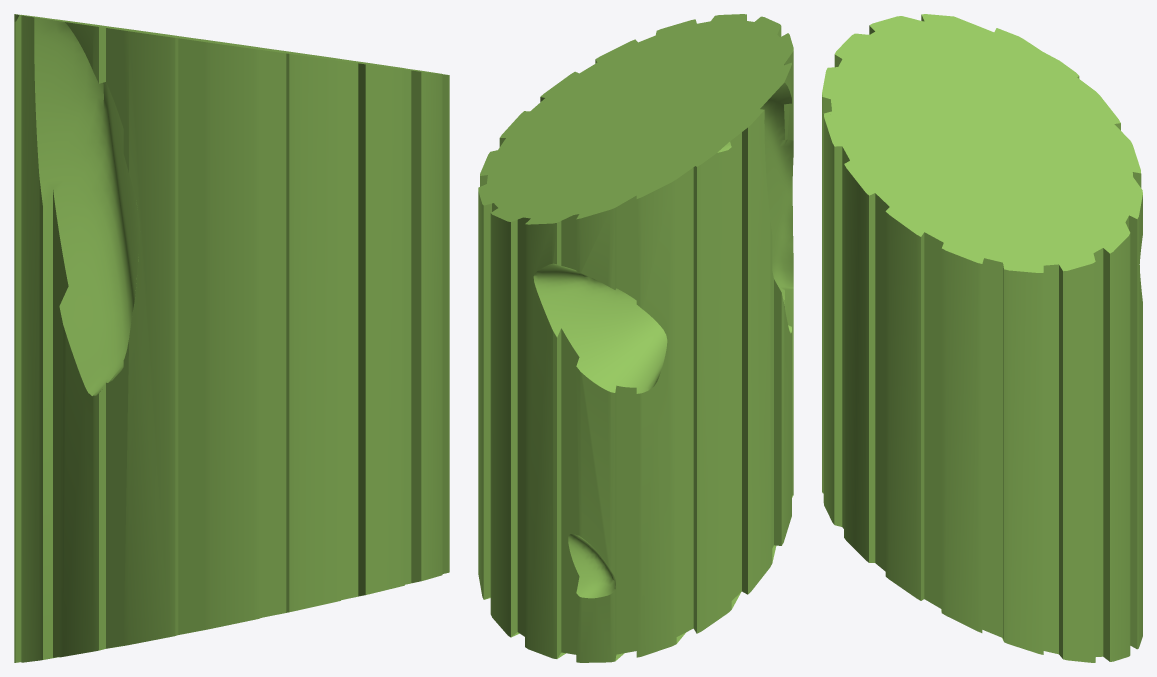
File: ColumnSectiColumnSection2.obj
The picture shows the model from 3 angles, left to right: view 1: azimuth 30°, elevation 25°; view 2: azimuth 150°, elevation 25°; view 3: azimuth 270°, elevation 25°; orthographic projection. The views are drawn at different scales.
Parts seen in each view (by area): view 1: ColumnSectiColumnSection2; view 2: ColumnSectiColumnSection2; view 3: ColumnSectiColumnSection2.
Boxes of the visible parts, x1,y1,x2,y2 form: ColumnSectiColumnSection2: (14, 14, 449, 662); ColumnSectiColumnSection2: (478, 14, 793, 662); ColumnSectiColumnSection2: (822, 14, 1142, 662).
Size of the model in its own units: 5.58 by 10.77 by 5.58.
